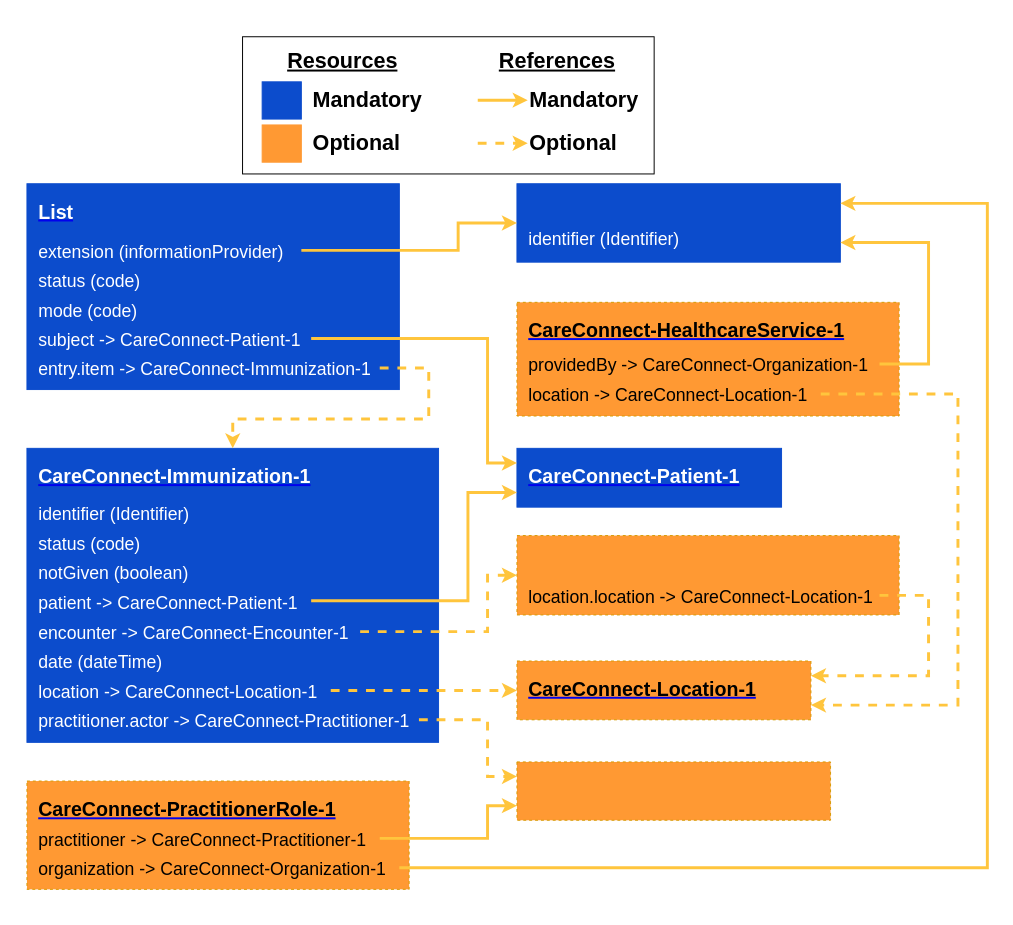
Image size: 1013x925. Some labels were removed from this diagram. Here are the shapes that lost their labels. From the top down, the box of each, then its label:
(516, 183, 840, 262): CareConnect-Organization-1
(516, 535, 899, 615): CareConnect-Encounter-1
(516, 761, 831, 820): CareConnect-Practitioner-1
